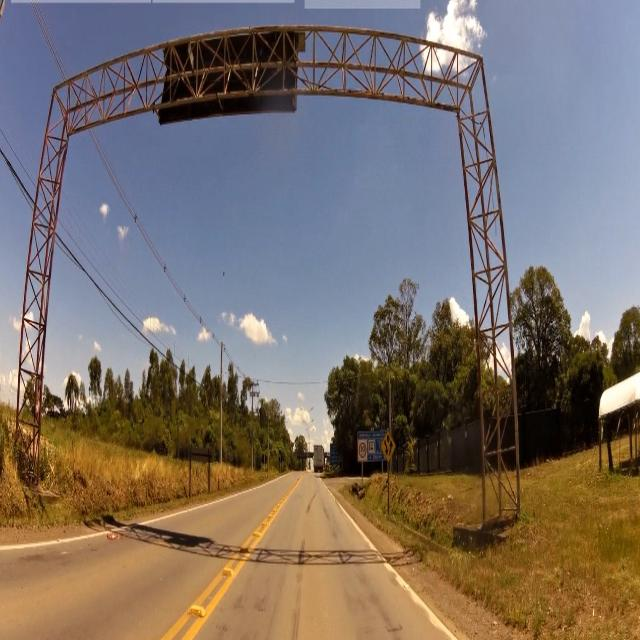A-42a: (381, 432, 396, 459)
R-19: (359, 442, 367, 458)
